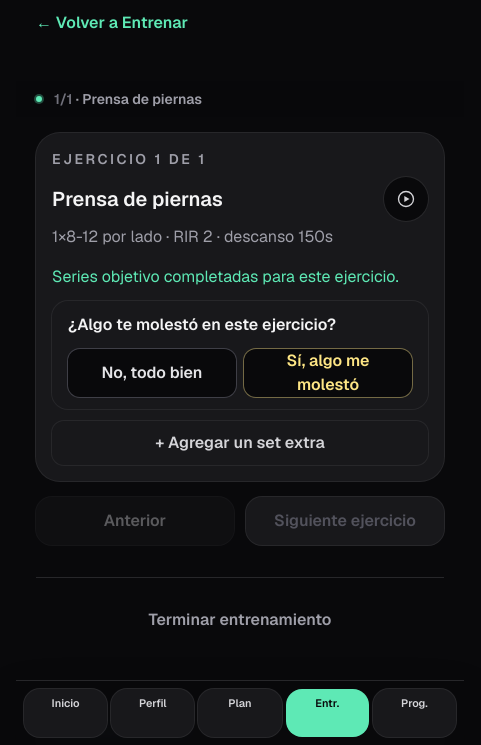
Test case: SessionRunner › bonus sets past targetSets › cautions against a bonus set on the thinner side, per the measurement-derived hint, once bonus logging opens
The image size is (481, 745).
Click the button "+ Agregar un set extra".
click(240, 443)  # box left=52, top=421, right=428, bottom=465
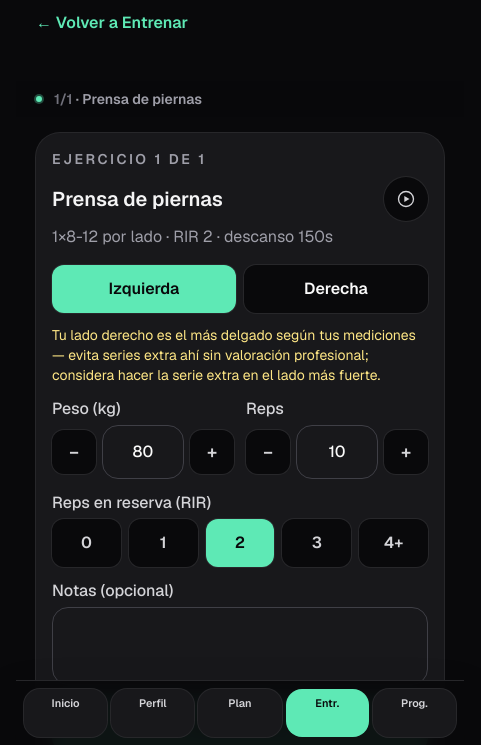
Now the text "Tu lado derecho es el más delgado según tus mediciones" is shown, box left=52, top=325, right=428, bottom=385
Now the text "evita series extra ahí sin valoración profesional" is shown, box left=52, top=326, right=416, bottom=384
Now the radio button labelled "Izquierda" is checked, box left=52, top=265, right=236, bottom=313
